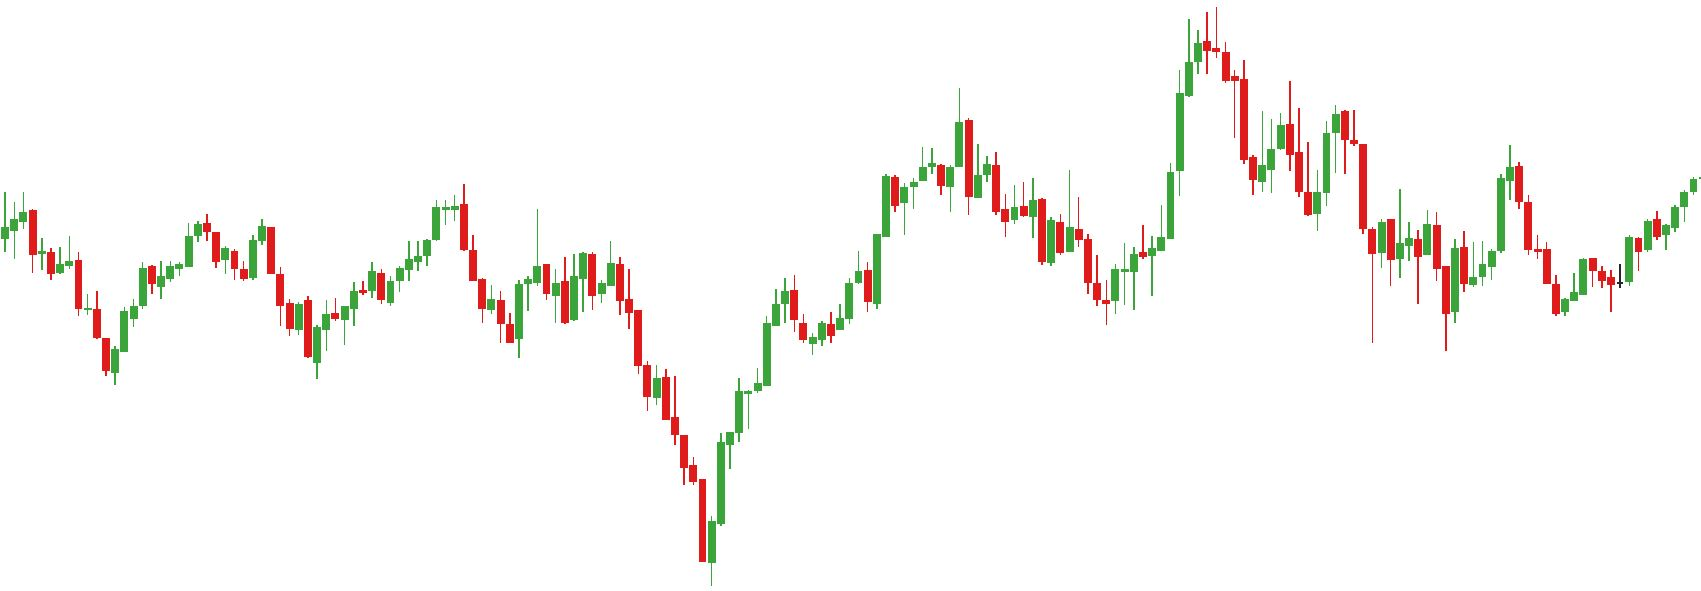buy: (1366, 203, 1461, 359)
sell: (919, 81, 976, 224)
